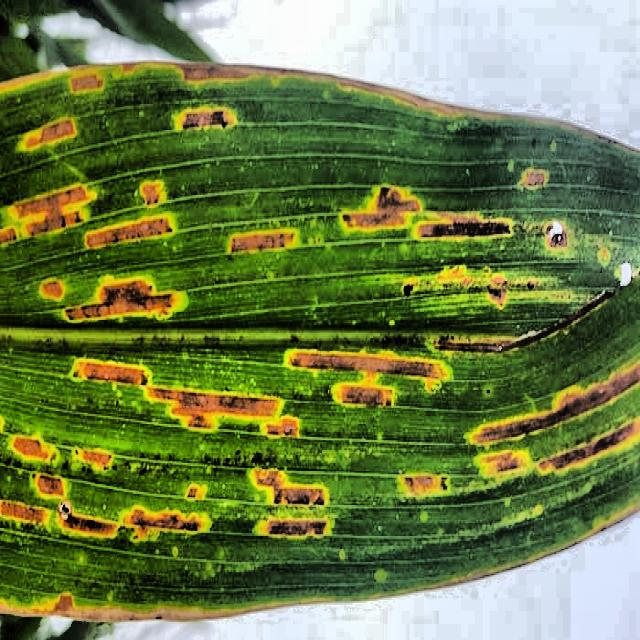gray_spot: (9, 69, 640, 602)
